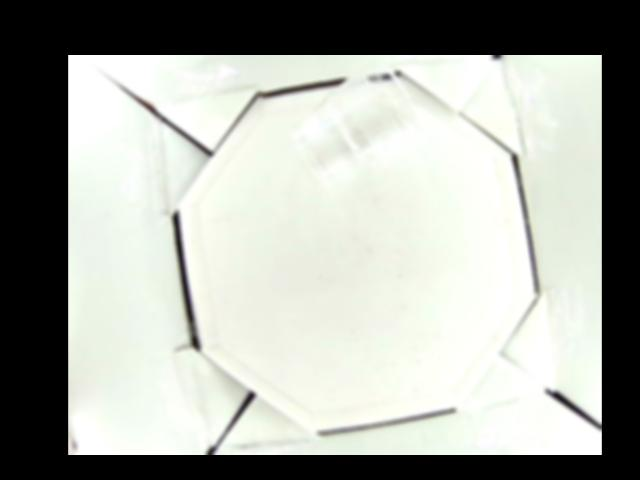Cup: (294, 64, 424, 185)
